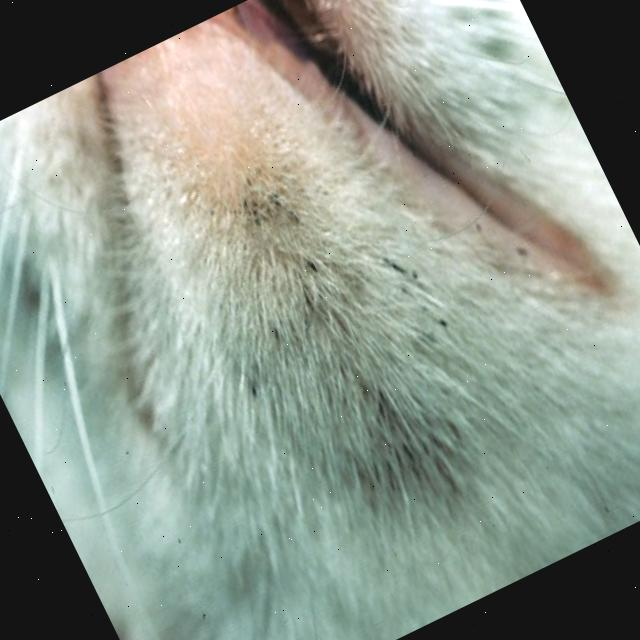cat-dermatitis: (208, 148, 466, 508)
